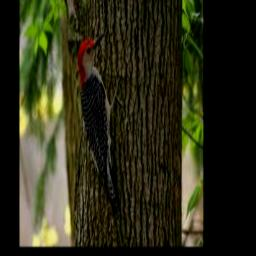Woodpecker: (78, 32, 123, 207)
